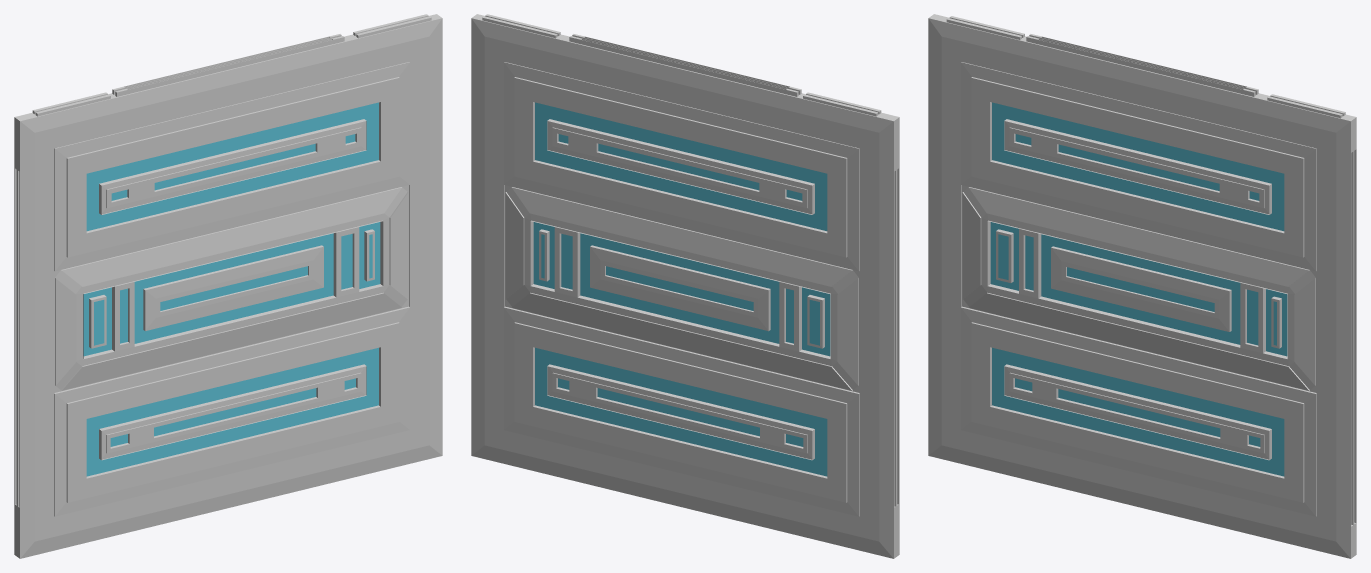
File: Wall Tile for Unity.fbx
3 renders of one model, left to right at view 1: azimuth 30°, elevation 25°; view 2: azimuth 150°, elevation 25°; view 3: azimuth 330°, elevation 25°, orthographic.
Parts seen in each view (by area): view 1: Cube.001; view 2: Cube.001; view 3: Cube.001.
Part boxes in pixels (x1,y1,x2,y2): Cube.001: (14, 14, 442, 558); Cube.001: (471, 14, 899, 558); Cube.001: (928, 14, 1356, 558).
Size of the model in its own units: 500 by 500 by 23.68.
